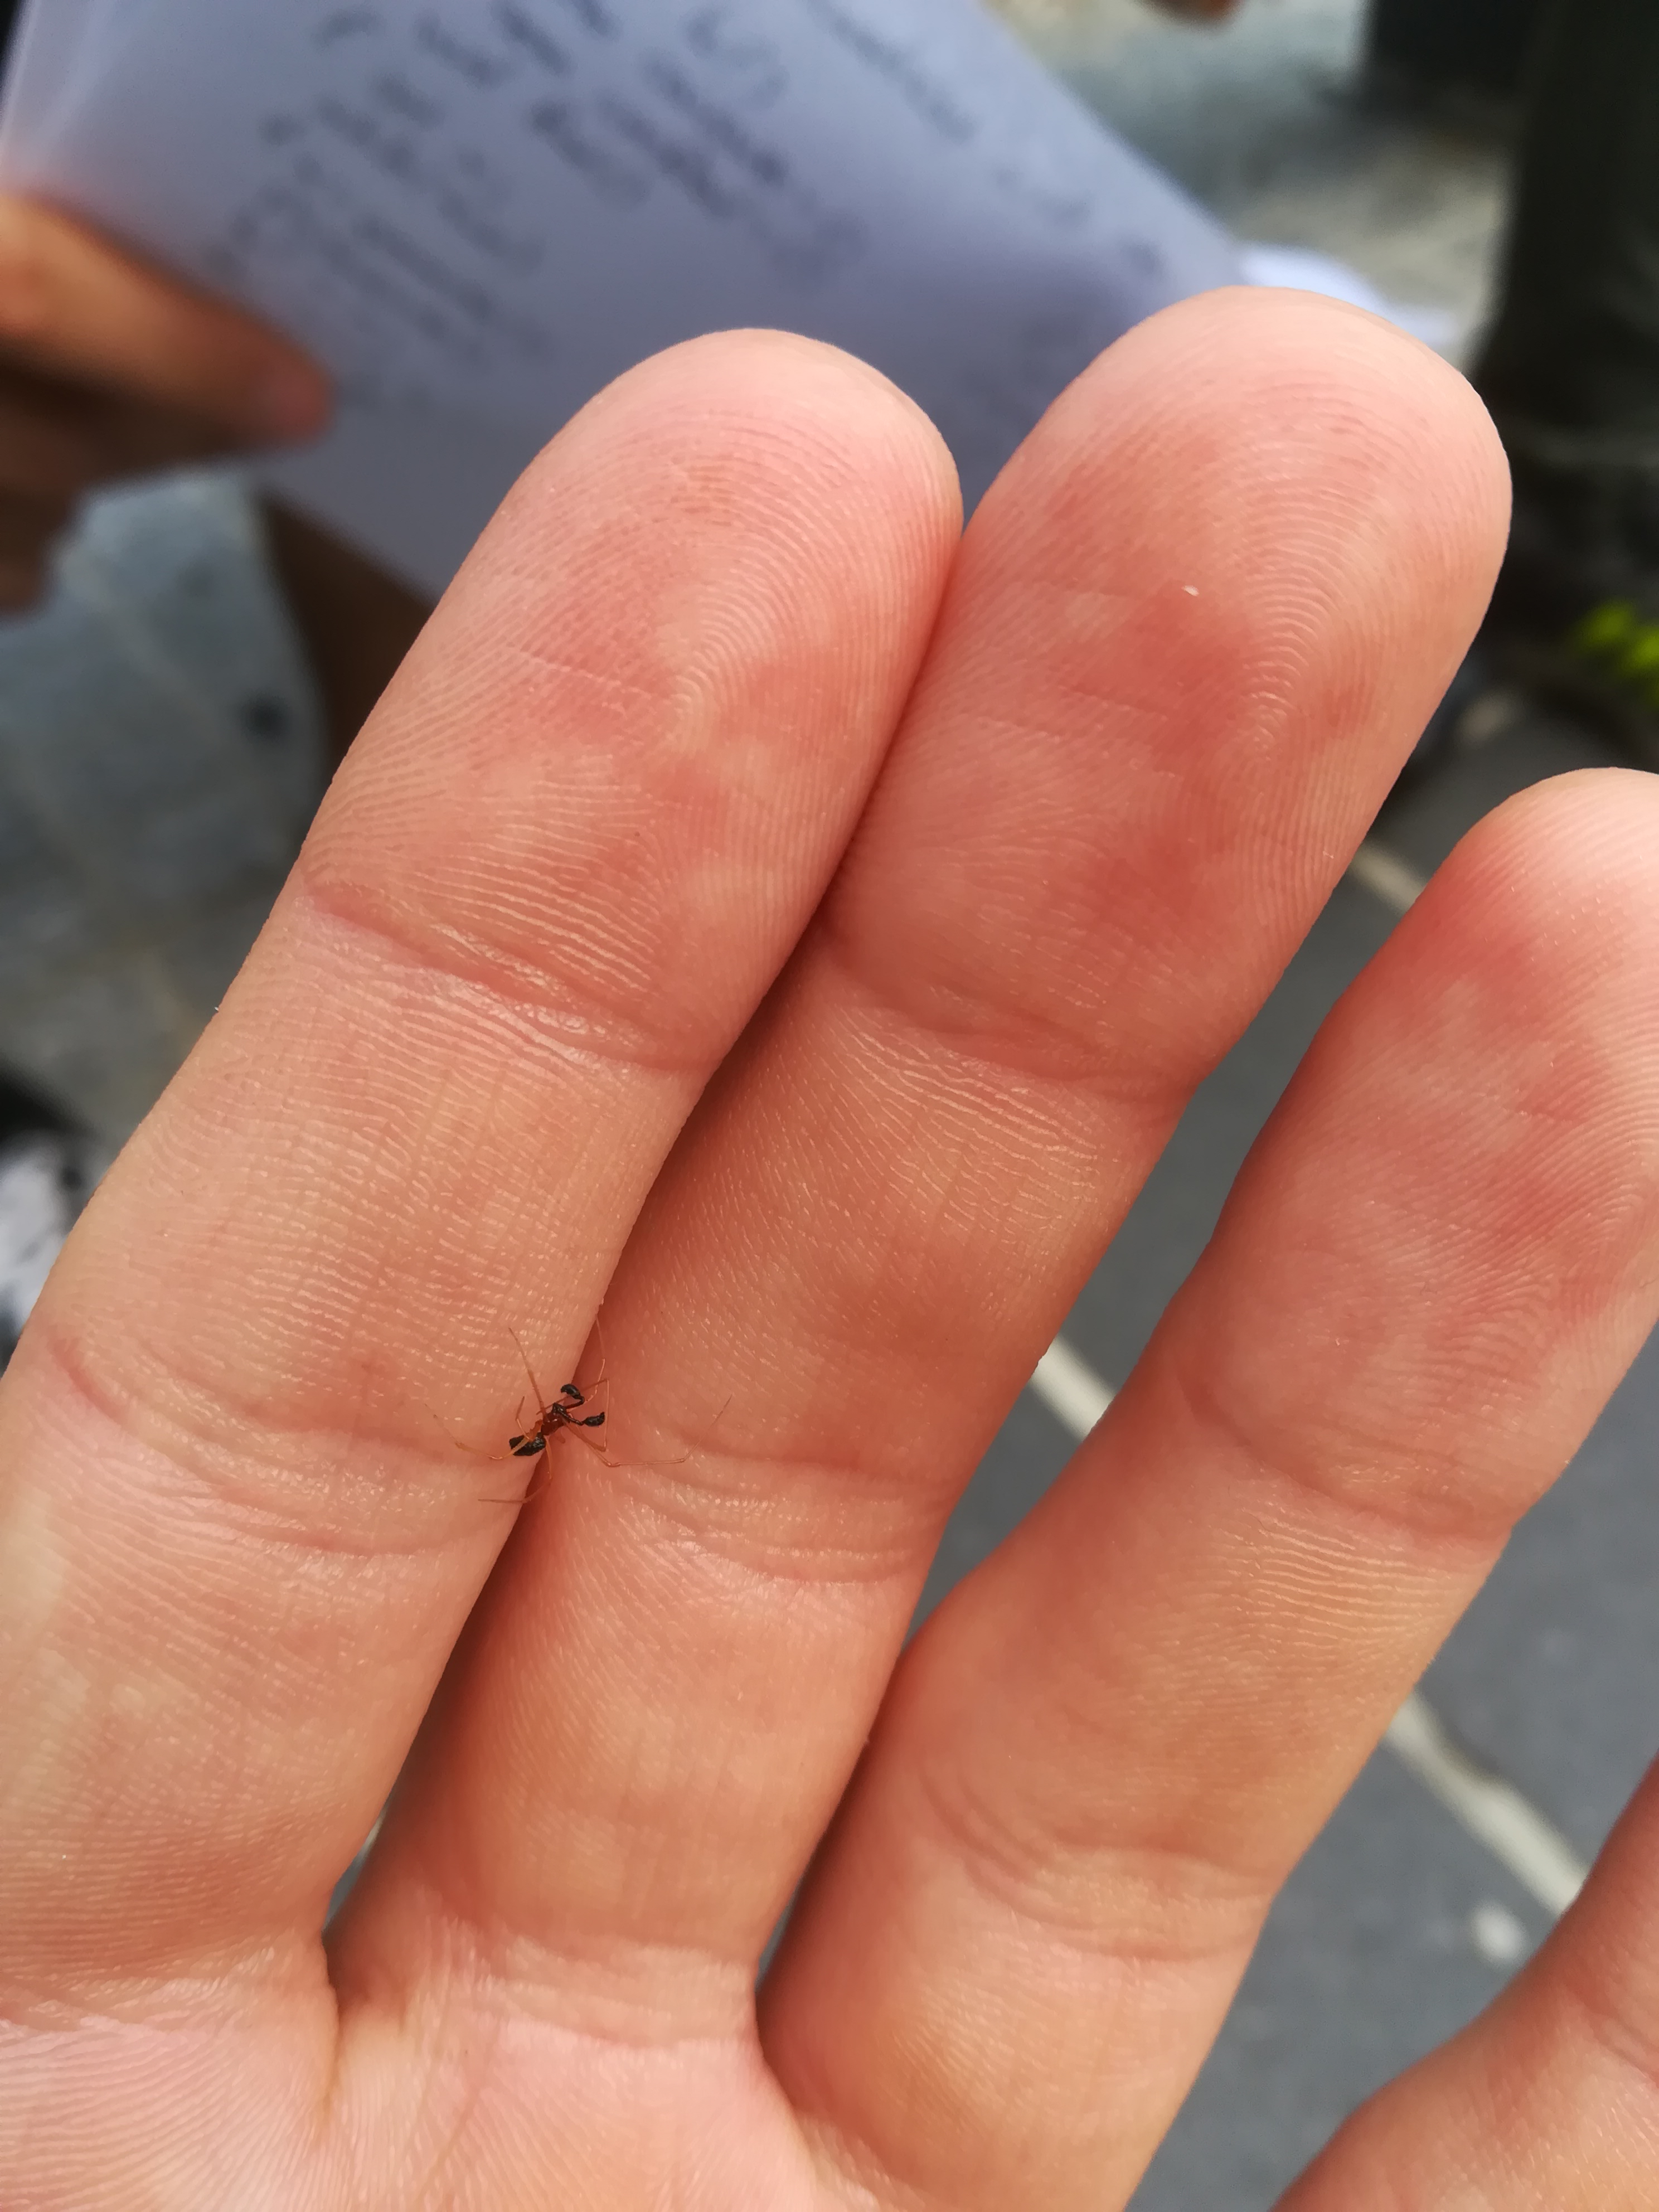spider: (411, 1261, 730, 1536)
